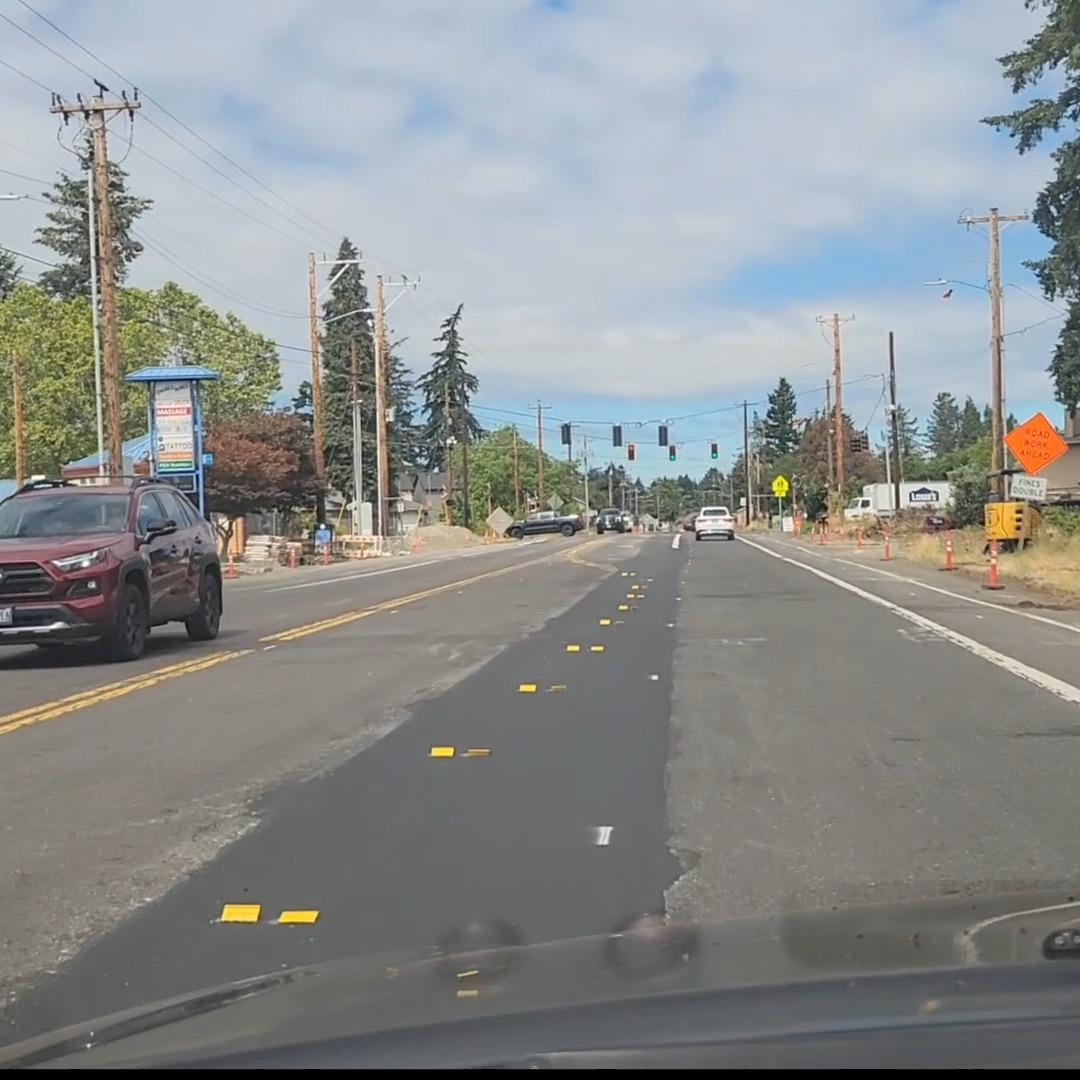car: (0, 473, 225, 661), (503, 510, 583, 539), (693, 506, 736, 541), (594, 507, 633, 533), (922, 514, 954, 533)
crosswalk-sign: (771, 475, 788, 496)
delineator: (980, 541, 1004, 589), (938, 533, 957, 570), (878, 528, 893, 561), (817, 521, 827, 544), (854, 525, 863, 547), (806, 521, 816, 540)
